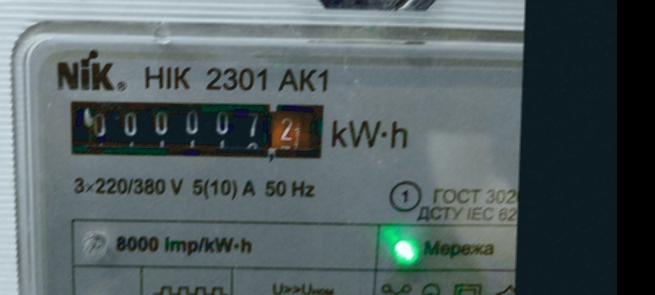0: (151, 108, 170, 136), (121, 109, 139, 137), (213, 107, 230, 136), (90, 110, 108, 137), (183, 107, 199, 135)
2: (278, 114, 295, 143)
7: (243, 109, 260, 139)
screen: (60, 87, 336, 169)
